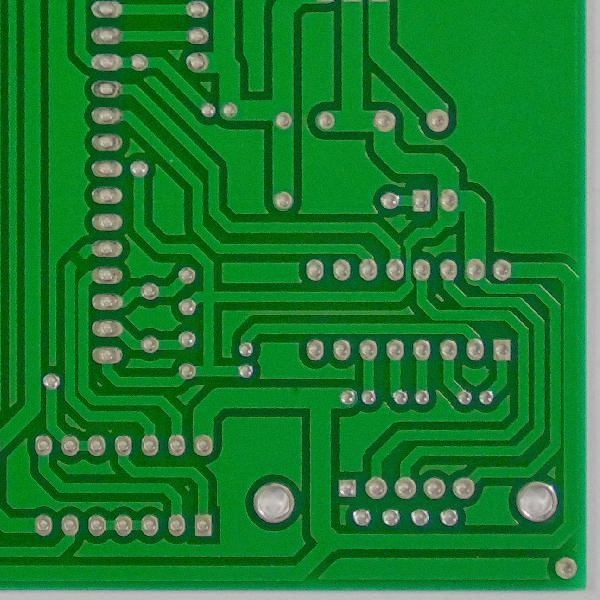open_circuit: (67, 250, 90, 271)
